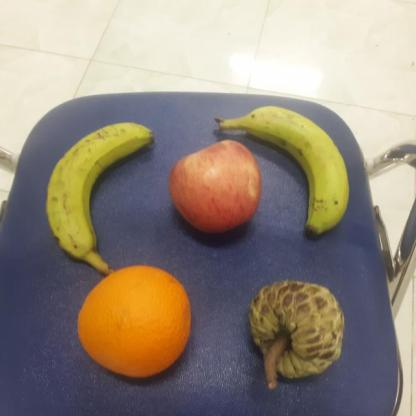annona: (248, 278, 344, 378)
apple: (168, 138, 261, 232)
banana: (212, 106, 348, 238), (46, 122, 154, 264)
orange: (76, 266, 192, 376)
